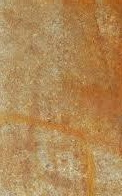Corrosion: (1, 1, 122, 196)
